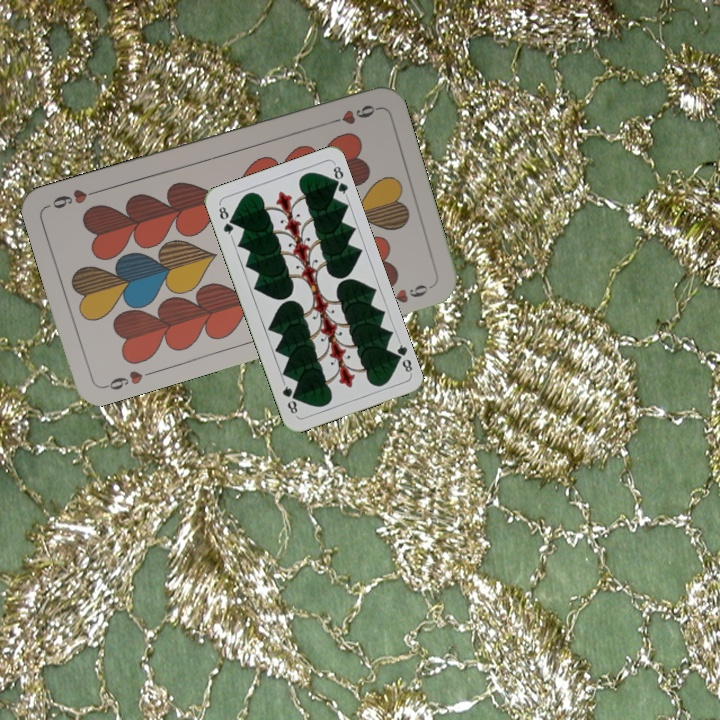G8: (389, 337, 415, 376), (215, 201, 236, 240)
H9: (322, 100, 381, 127), (99, 366, 157, 393)
